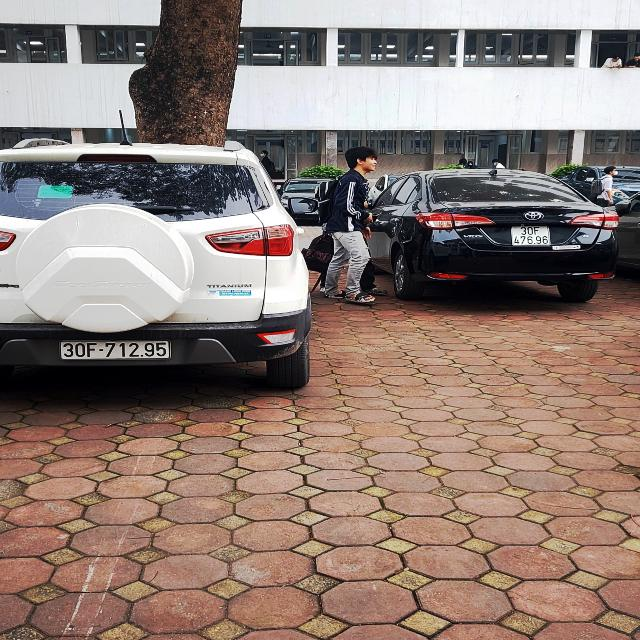license_plate: (60, 342, 171, 361), (512, 227, 552, 247)
